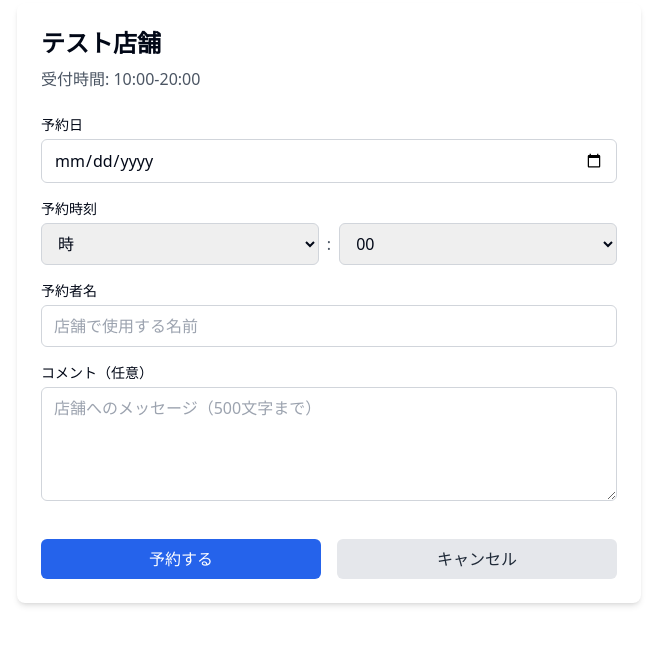
Test case: ReservationForm › should display validation error for empty reservationTime
Type "2025-12-25" into the date field labelled "予約日" at (329, 161), box [41,139,617,183]
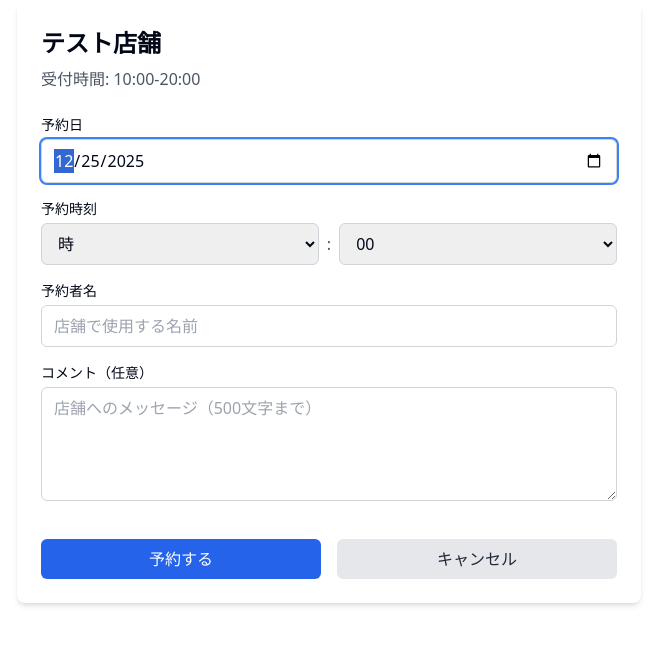
Type "テストユーザー" into the field labelled "予約者名" at (329, 326), box [41,305,617,347]
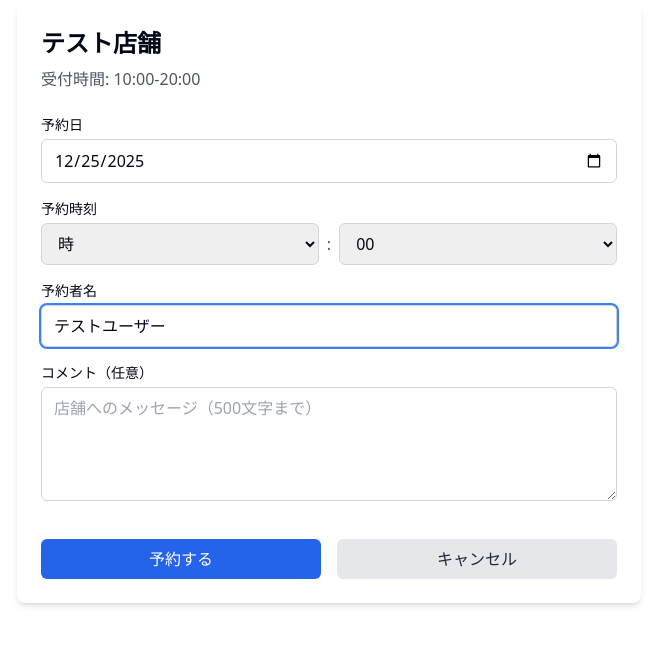
Click the button "予約する" at (181, 559), box [41,539,321,579]
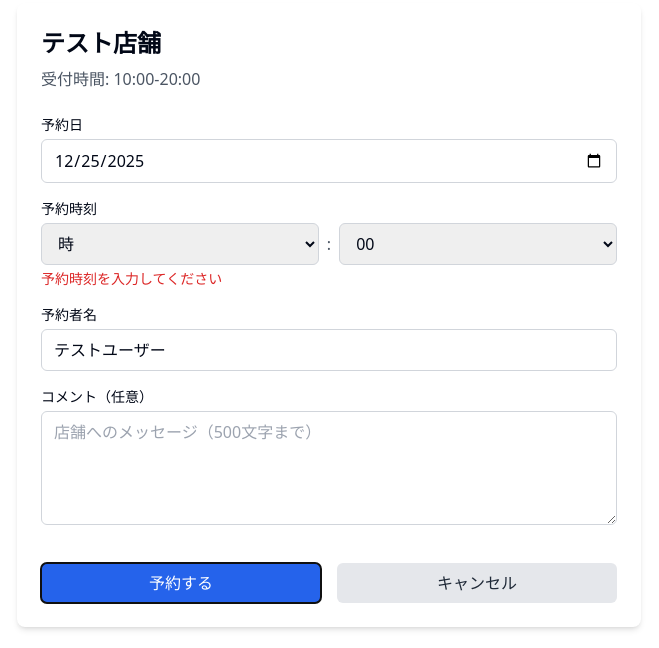
Now the text "予約時刻を入力してください" is shown, box [41,269,222,288]
